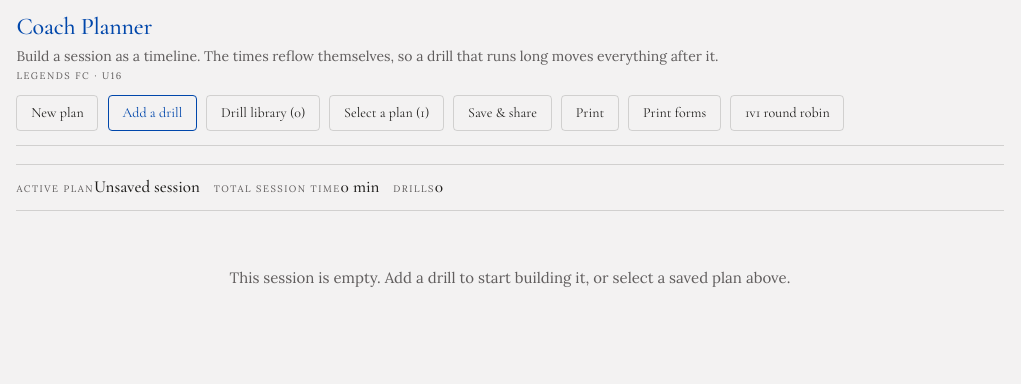
the timeline › shows each drill's slot, duration and notes
The image size is (1021, 384).
Click the button "Select a plan (1)": (387, 113) [329,95,444,131]
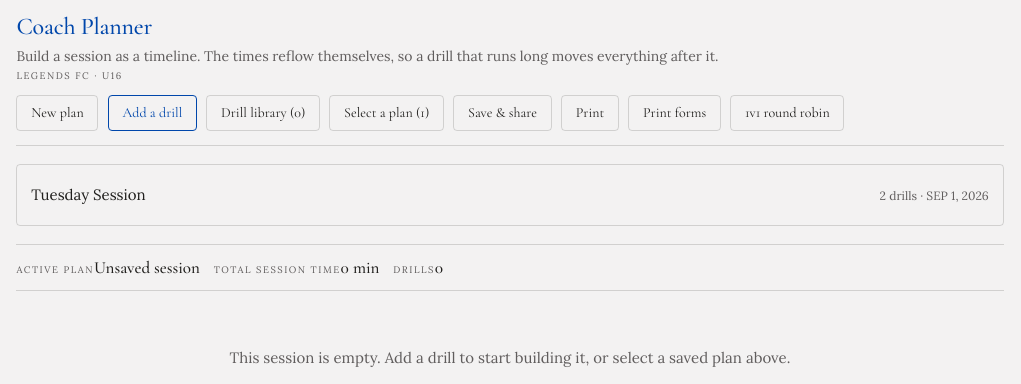
Click the button "Tuesday Session 2 drills · SEP 1, 2026": (88, 195) [31,179,989,211]
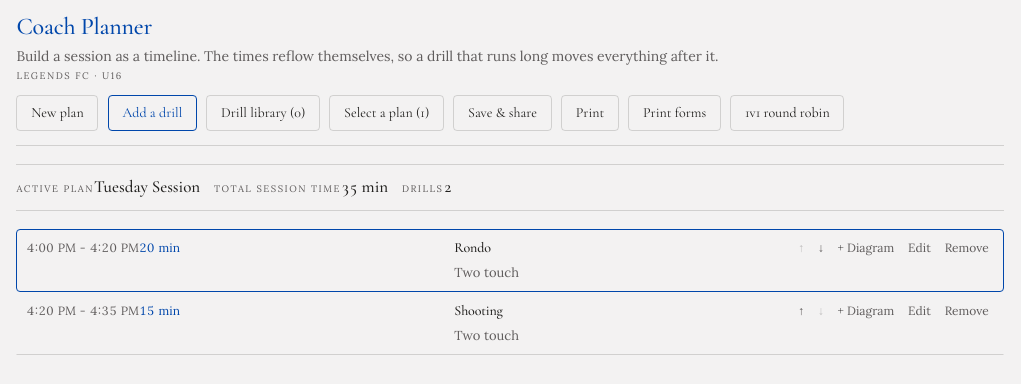
Check: the list item that starts with "4:00 PM - 4:20 PM" is shown, box [27,240,139,255]
Check: the list item that starts with "4:00 PM - 4:20 PM" shows "20 min", box [139,240,180,255]
Check: the list item that starts with "4:00 PM - 4:20 PM" shows "Two touch", box [454,264,519,280]
